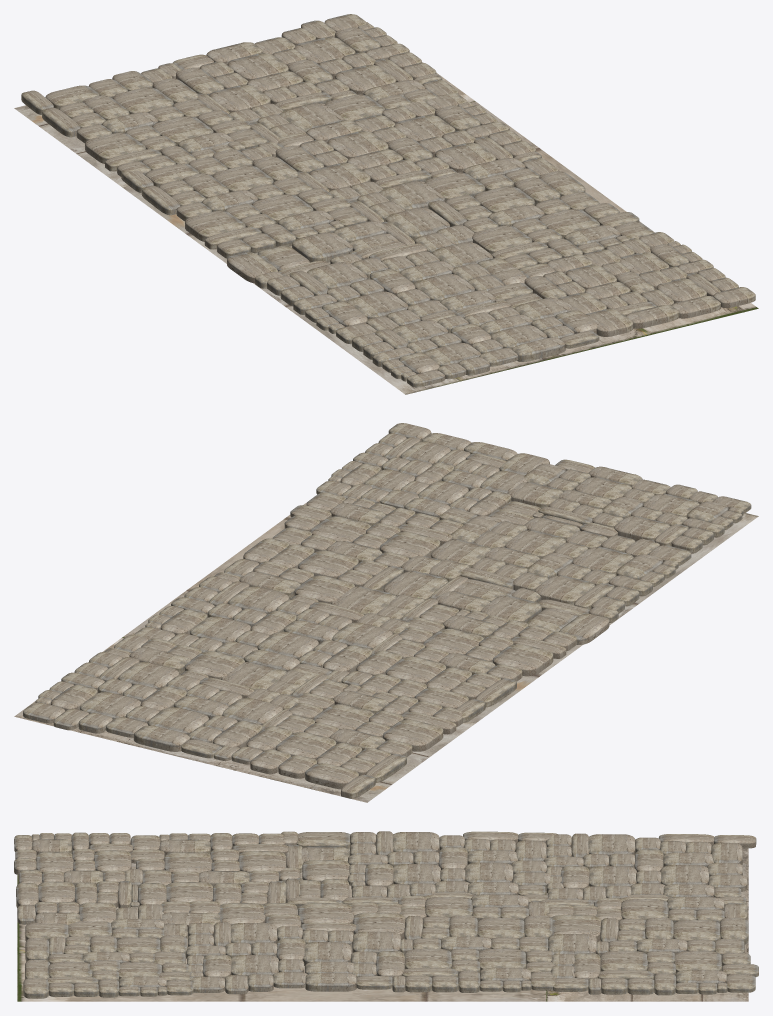
Rendered from LVl_Floor(1).fbx.
3 views of the same model, one above another, from view 1: azimuth 30°, elevation 25°; view 2: azimuth 150°, elevation 25°; view 3: azimuth 270°, elevation 25° (orthographic). The views are drawn at different scales.
Visible parts, largest first — view 1: LVL_Floor; view 2: LVL_Floor; view 3: LVL_Floor.
Boxes of the visible parts, x1,y1,x2,y2 form: LVL_Floor: [14, 14, 758, 394]; LVL_Floor: [14, 423, 758, 802]; LVL_Floor: [14, 831, 758, 1001].
Bounding box in the file's own units: 1265 × 46.08 × 2427.
2 materials, 2 textured.
